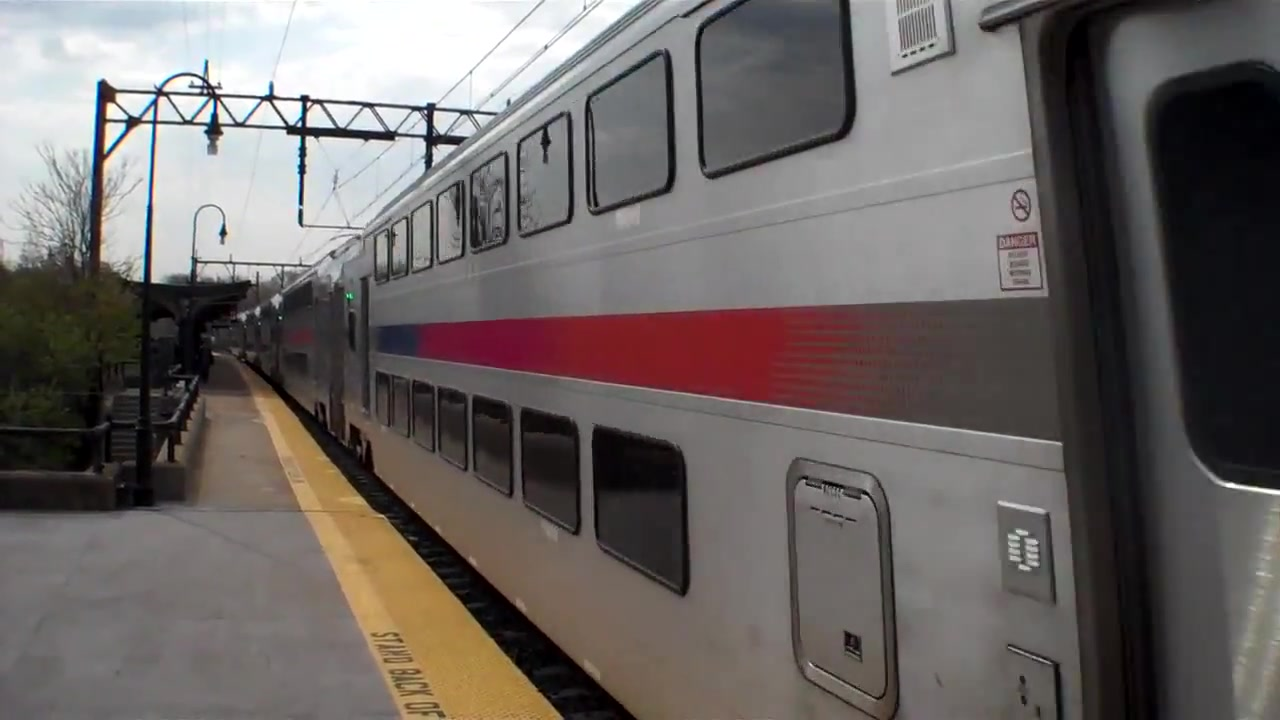train: (223, 1, 1280, 720)
